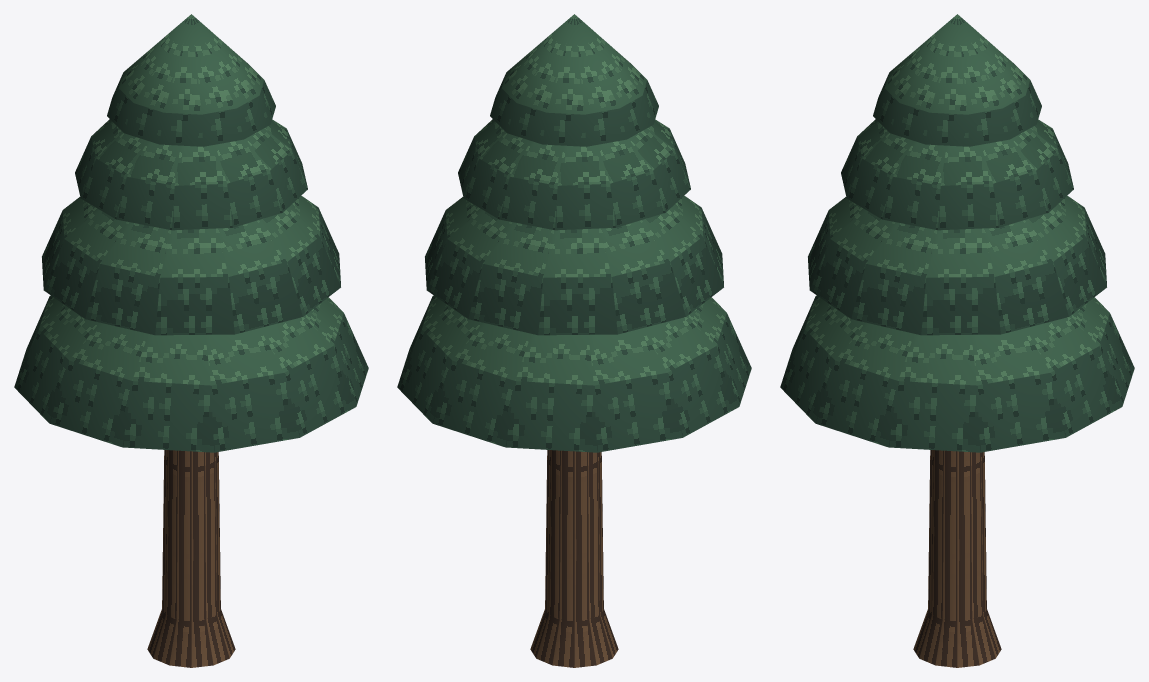
The model's file is pine_1.glb.
3 renders of one model, left to right at view 1: azimuth 30°, elevation 25°; view 2: azimuth 150°, elevation 25°; view 3: azimuth 270°, elevation 25°, orthographic.
Parts seen in each view (by area): view 1: pine_2; view 2: pine_2; view 3: pine_2.
Part boxes in pixels (<box>): pine_2: <box>14,14,368,667</box>; pine_2: <box>397,14,751,667</box>; pine_2: <box>780,14,1134,667</box>.
Bounding box in the file's own units: 1.98 × 3.91 × 1.98.
3 materials, 3 textured.
